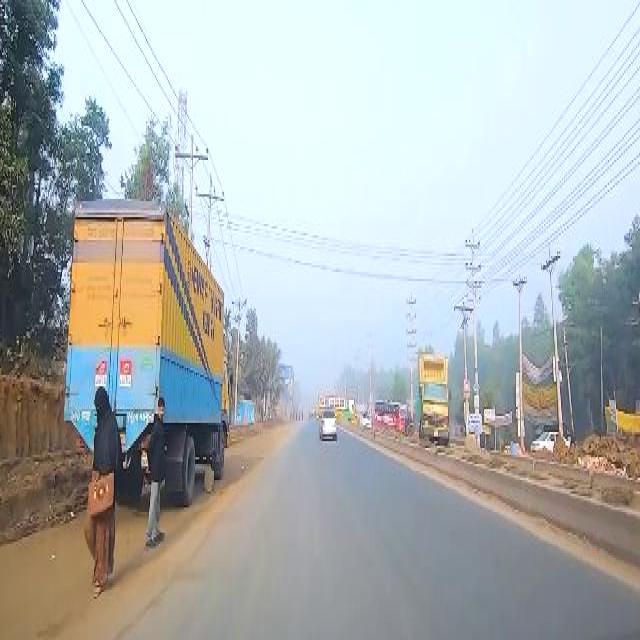TRUCK: (66, 188, 234, 494), (418, 356, 452, 441)
